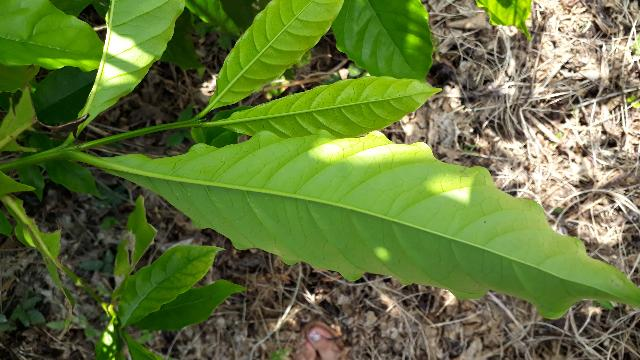healthy: (105, 126, 640, 321)
